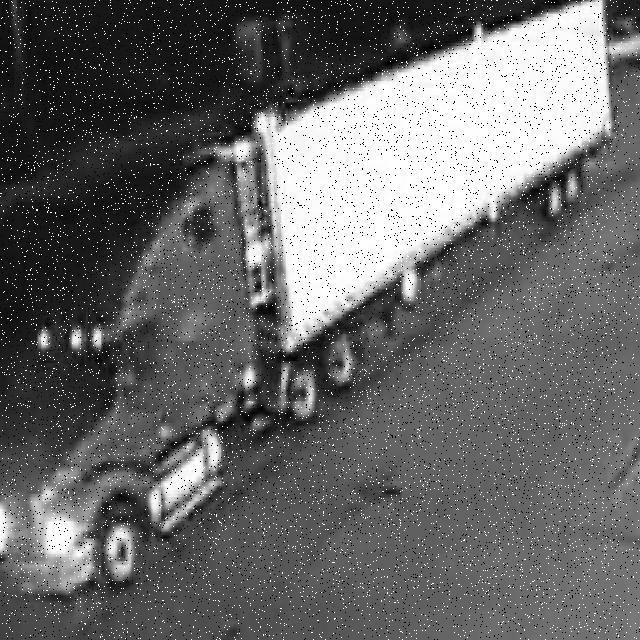Box Truck: (0, 0, 617, 597)
